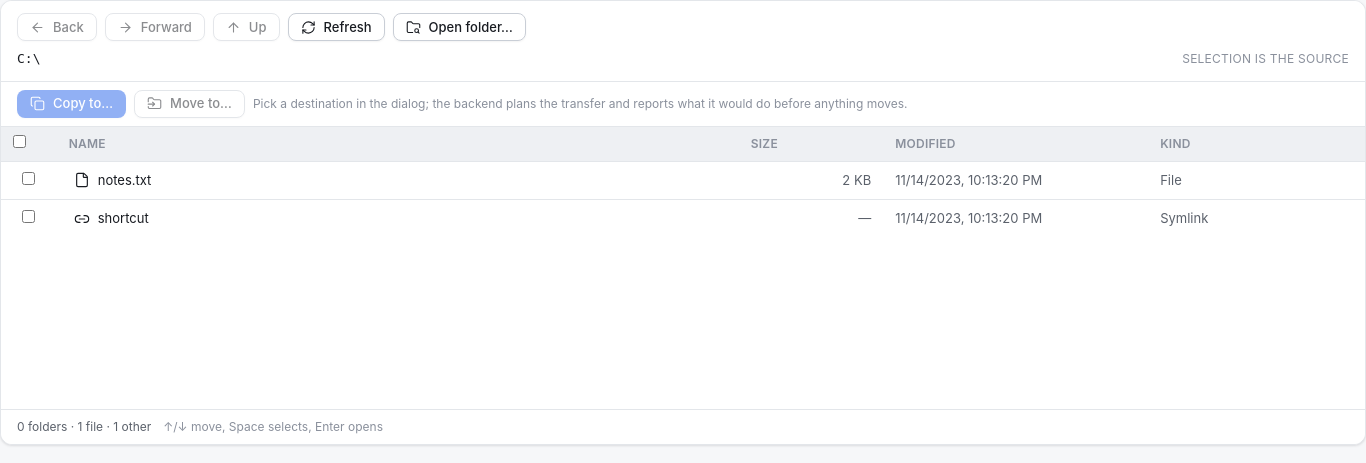
Test case: DirectoryBrowser › names entries the engine will not copy
Click the checkbox named "Select all entries": (20, 141) [13,134,26,148]
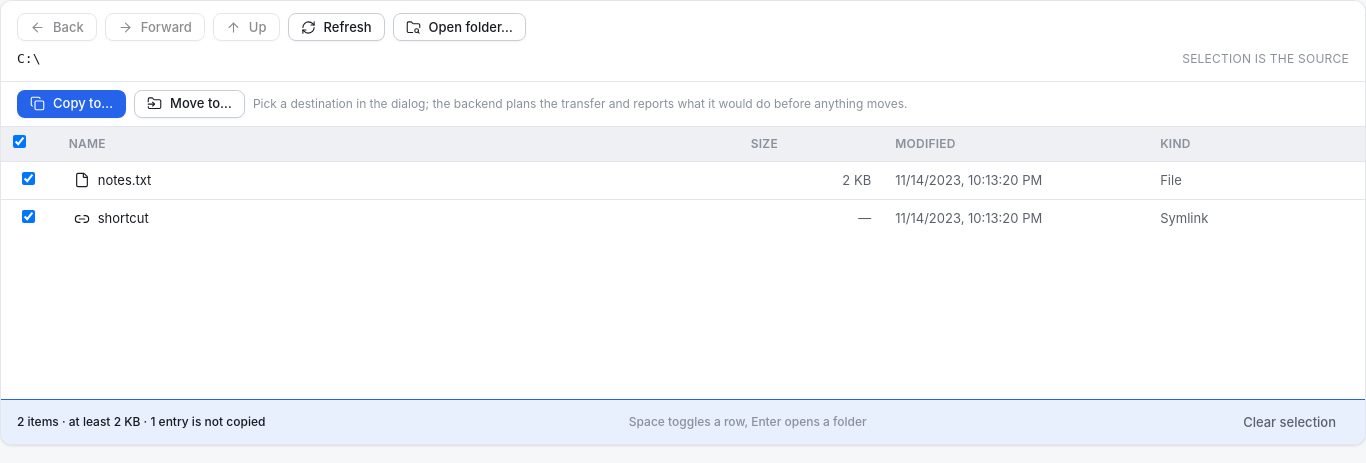
Result: the text "2 items · at least 2 KB · 1 entry is not copied" is shown at [17,413,265,431]
